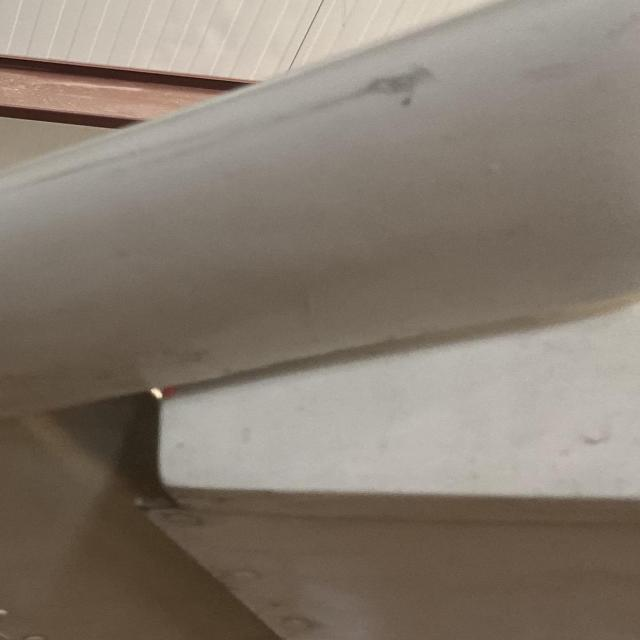Paint-off: (361, 63, 437, 106)
